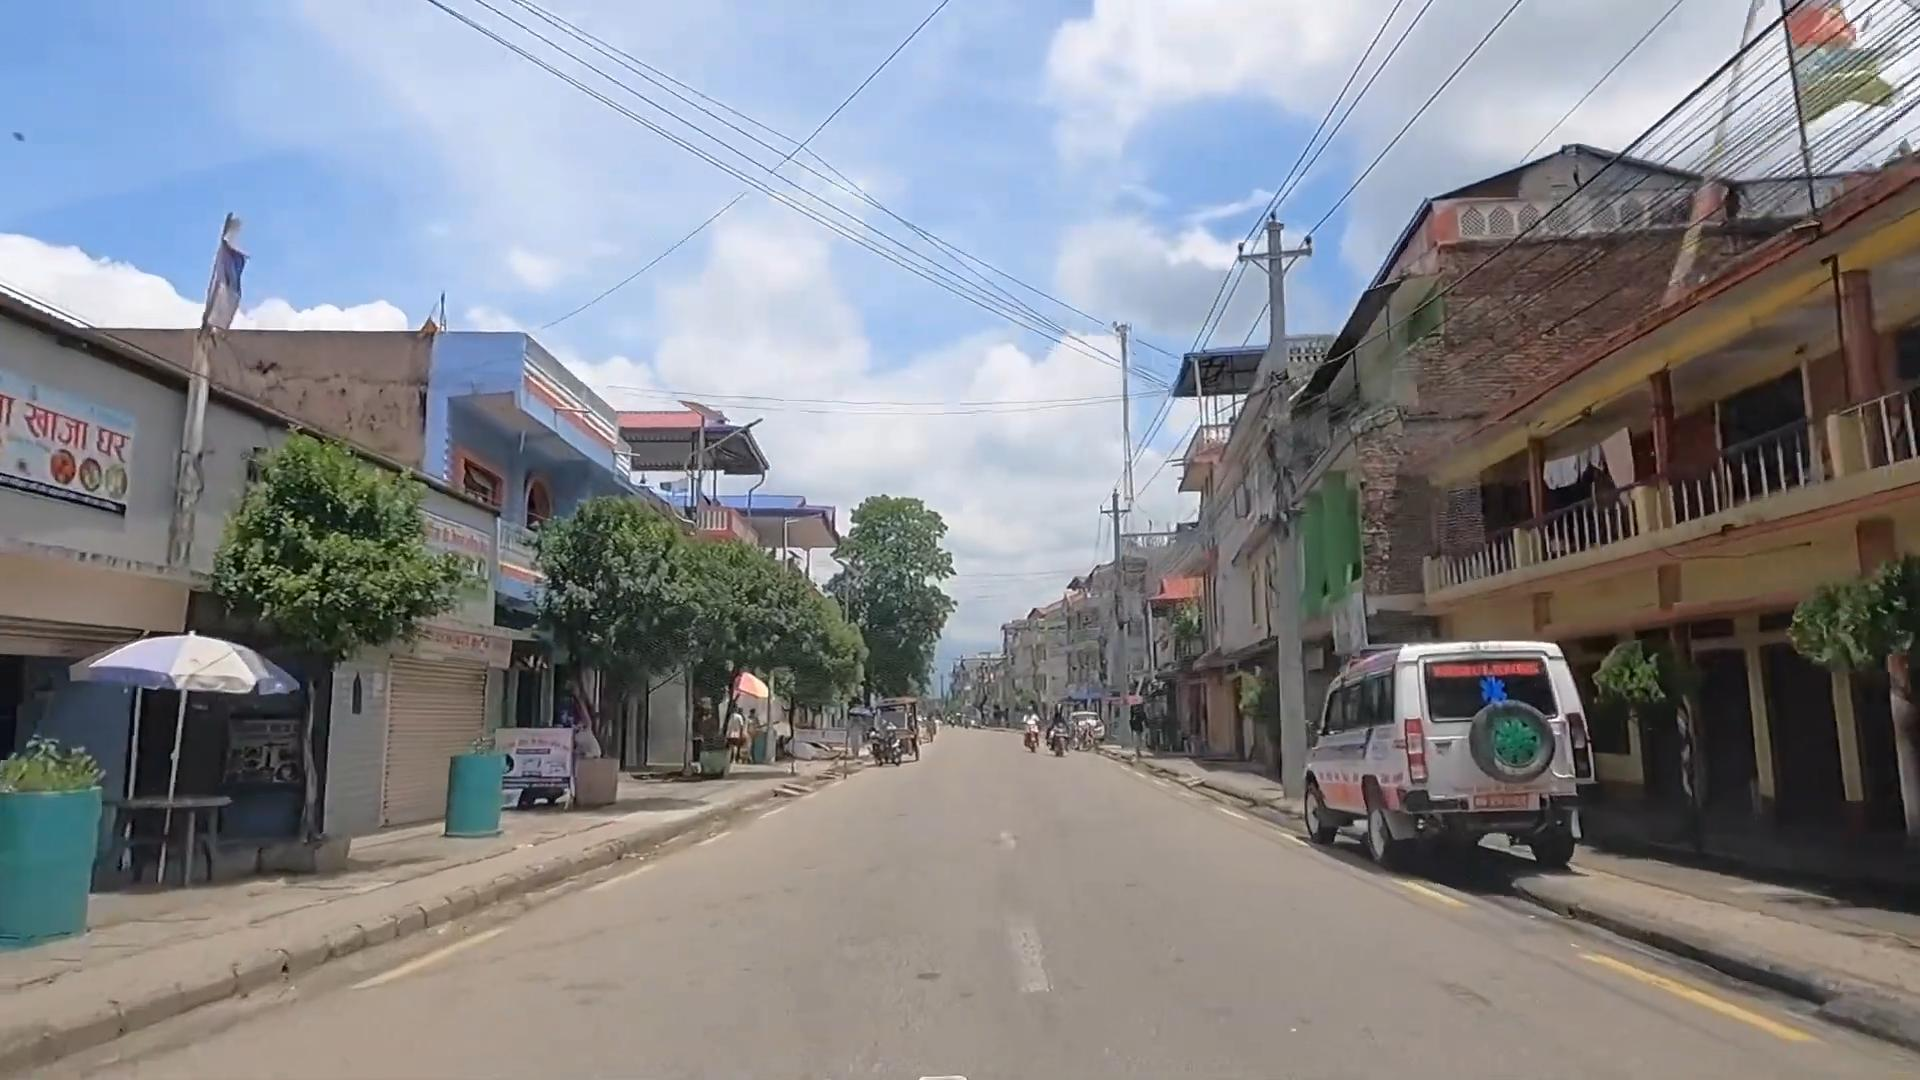ambulance: (1292, 637, 1611, 889)
